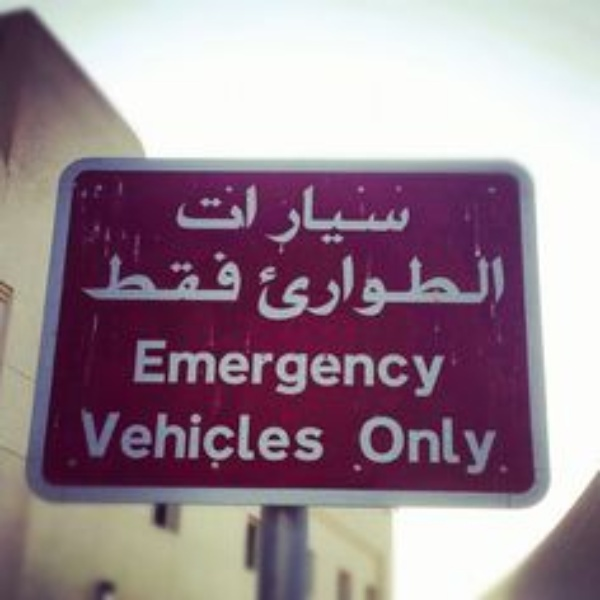text: (257, 252, 272, 323), (273, 252, 288, 323), (289, 252, 304, 323), (305, 252, 320, 323), (321, 252, 336, 323), (337, 252, 352, 323), (353, 252, 368, 323), (369, 252, 384, 323), (385, 252, 400, 323), (401, 252, 416, 323), (417, 252, 432, 323), (433, 252, 448, 323), (449, 252, 464, 323), (465, 252, 480, 323), (481, 252, 496, 323), (369, 412, 384, 476), (385, 412, 400, 476), (401, 412, 416, 476), (417, 412, 432, 476), (433, 412, 448, 476), (449, 412, 464, 476), (465, 412, 480, 476), (481, 412, 496, 476), (177, 184, 192, 247), (193, 184, 208, 247), (209, 184, 224, 247), (225, 184, 240, 247), (241, 184, 256, 247), (257, 184, 272, 247), (273, 184, 288, 247), (289, 184, 304, 247), (305, 184, 320, 247), (321, 184, 336, 247), (337, 184, 352, 247), (353, 184, 368, 247), (369, 184, 384, 247), (385, 184, 400, 247), (145, 339, 160, 400), (161, 339, 176, 400), (177, 339, 192, 400), (193, 339, 208, 400), (209, 339, 224, 400), (225, 339, 240, 400), (241, 339, 256, 400), (257, 339, 272, 400), (273, 339, 288, 400), (289, 339, 304, 400), (305, 339, 320, 400), (321, 339, 336, 400), (337, 339, 352, 400), (353, 339, 368, 400), (369, 339, 384, 400), (385, 339, 400, 400), (401, 339, 416, 400), (417, 339, 432, 400), (433, 339, 448, 400), (497, 252, 509, 323), (81, 407, 96, 463), (97, 407, 112, 463), (113, 407, 128, 463), (129, 407, 144, 463), (145, 407, 160, 463), (161, 407, 176, 463), (177, 407, 192, 463), (193, 407, 208, 463), (209, 407, 224, 463), (225, 407, 240, 463), (241, 407, 256, 463), (257, 407, 272, 463), (273, 407, 288, 463), (289, 407, 304, 463), (305, 407, 320, 463), (97, 250, 112, 306), (113, 250, 128, 306), (129, 250, 144, 306), (145, 250, 160, 306), (161, 250, 176, 306), (177, 250, 192, 306), (193, 250, 208, 306), (209, 250, 224, 306), (225, 250, 240, 306), (356, 412, 368, 476), (401, 184, 412, 247), (84, 250, 96, 306), (133, 339, 144, 400), (321, 407, 326, 463), (241, 250, 245, 306), (77, 407, 80, 463), (497, 412, 499, 476), (449, 339, 451, 400), (255, 252, 256, 323)
